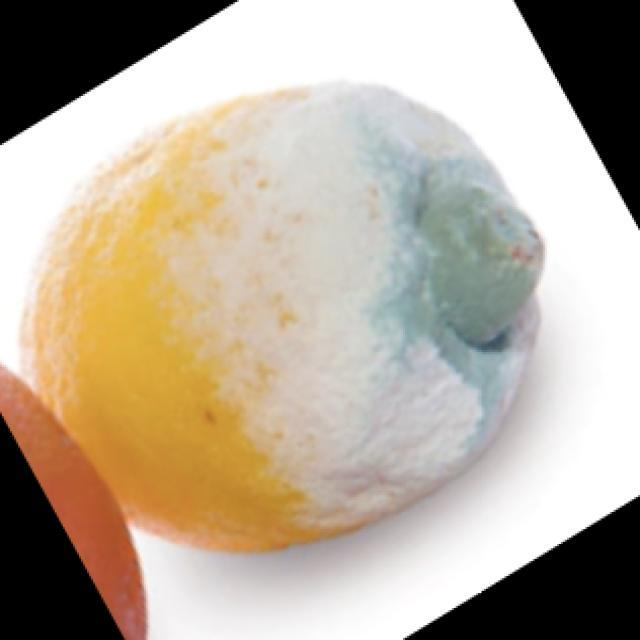sangat-busuk: (23, 84, 543, 551), (148, 83, 543, 531)
